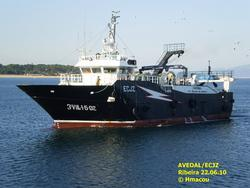Cargoship: (11, 9, 238, 134)
